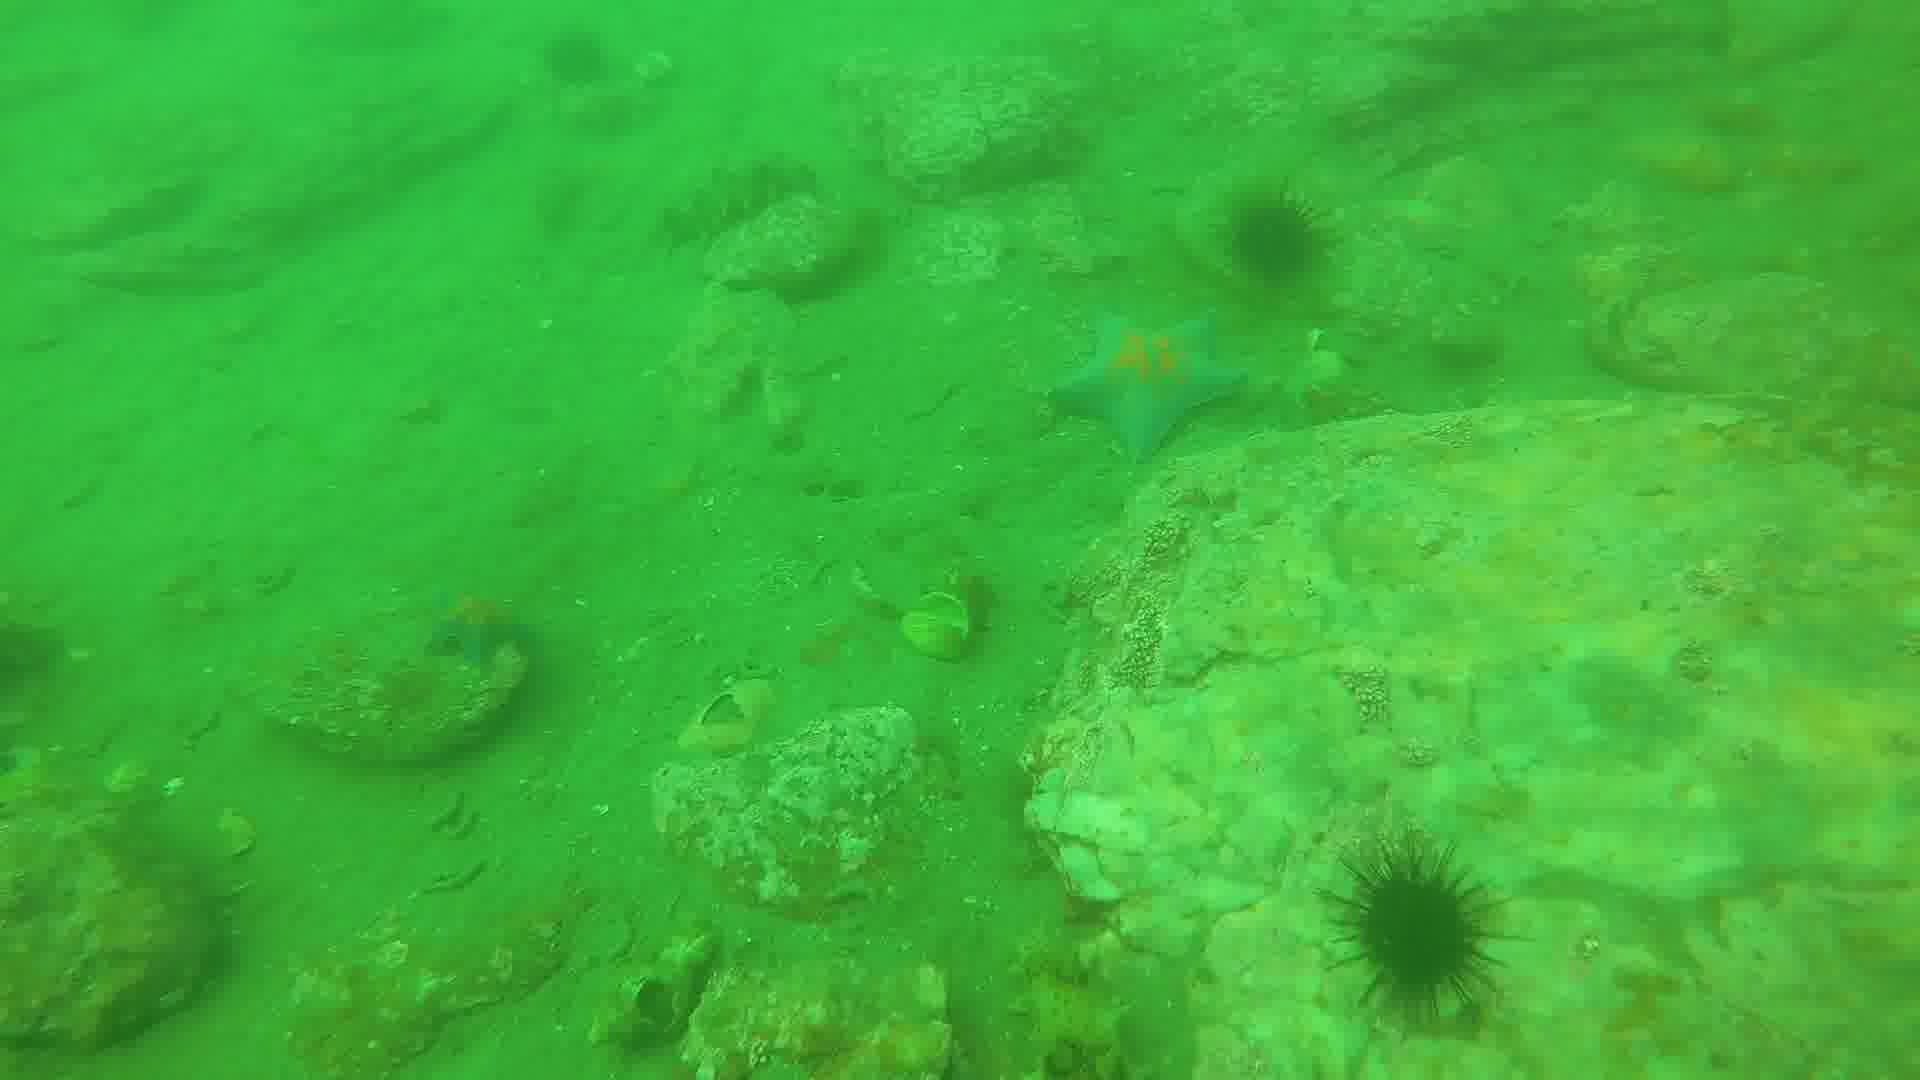echinus: (1346, 848, 1491, 1011), (1230, 198, 1337, 285), (539, 28, 612, 86)
holothurian: (657, 152, 825, 247)
starfish: (1054, 309, 1244, 465), (407, 578, 534, 671)
